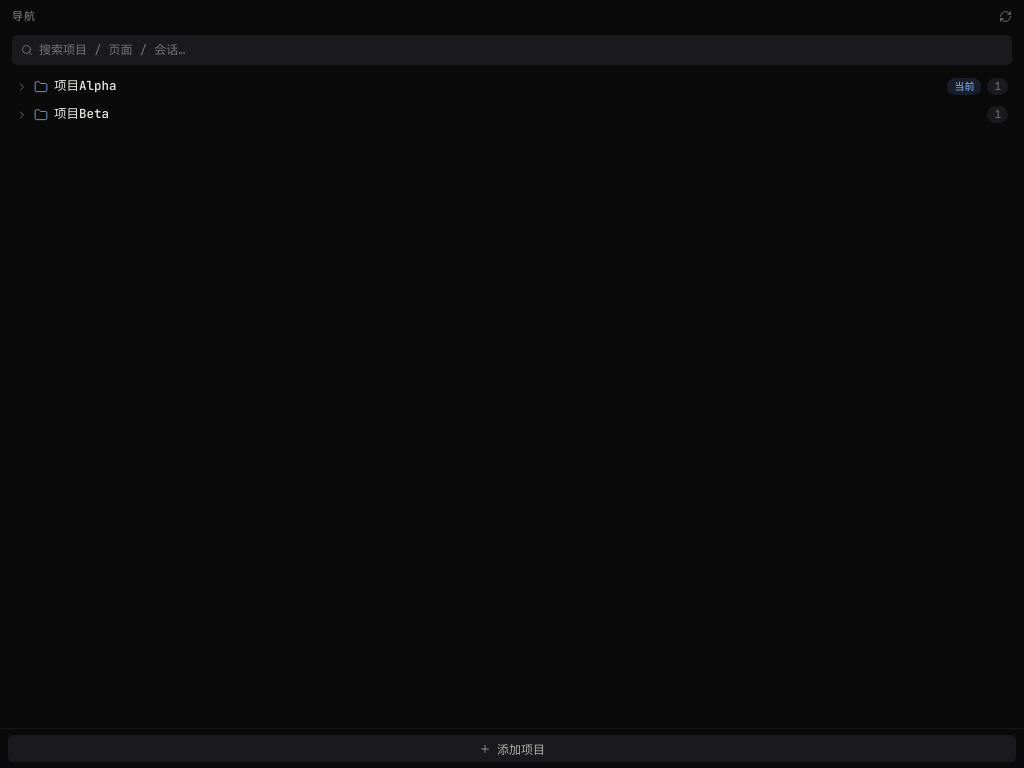
Scenario: 搜索过滤 › 父节点因子：页面命中 → 父项目行一并显示（即使项目名不匹配）
The width and height of the screenshot is (1024, 768).
命中页面Alpha——父项目「项目Alpha」行必须显示
In the field with placeholder "搜索项目 / 页面 / 会话…": (521, 50) [39,40,1003,58], type "页面Alpha"
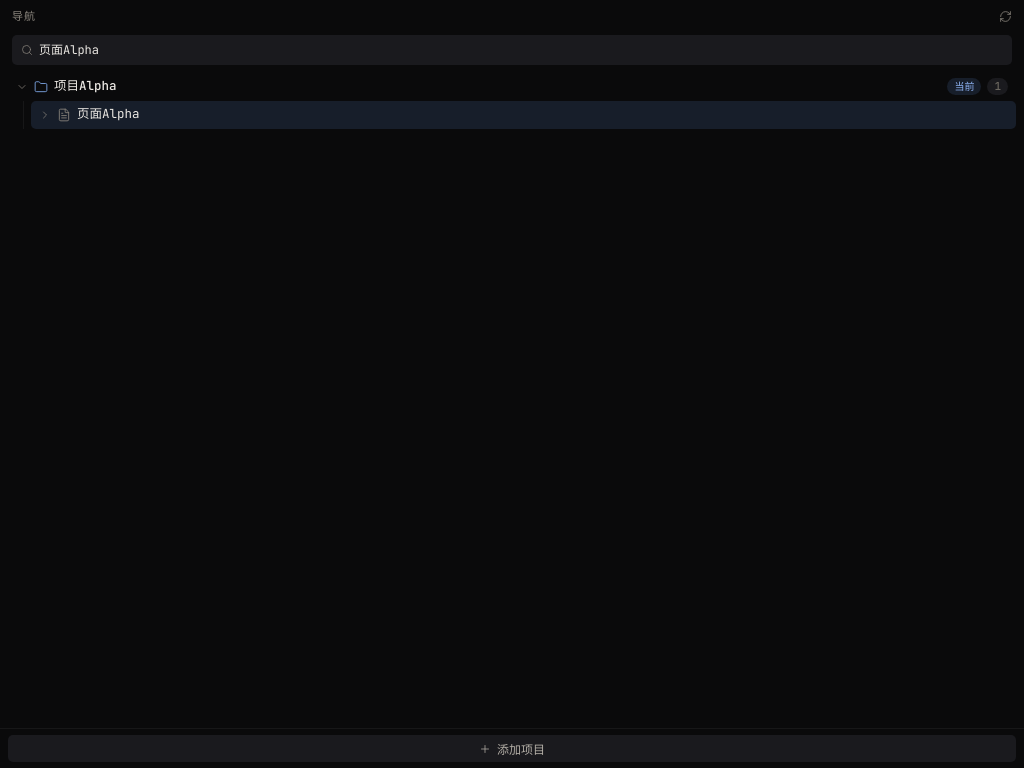
Expected: the element with test id "nav-row-project" shows "项目Alpha", [54,77,116,94]
Expected: the element with test id "nav-row-page" reads "页面Alpha", [77,105,140,122]
